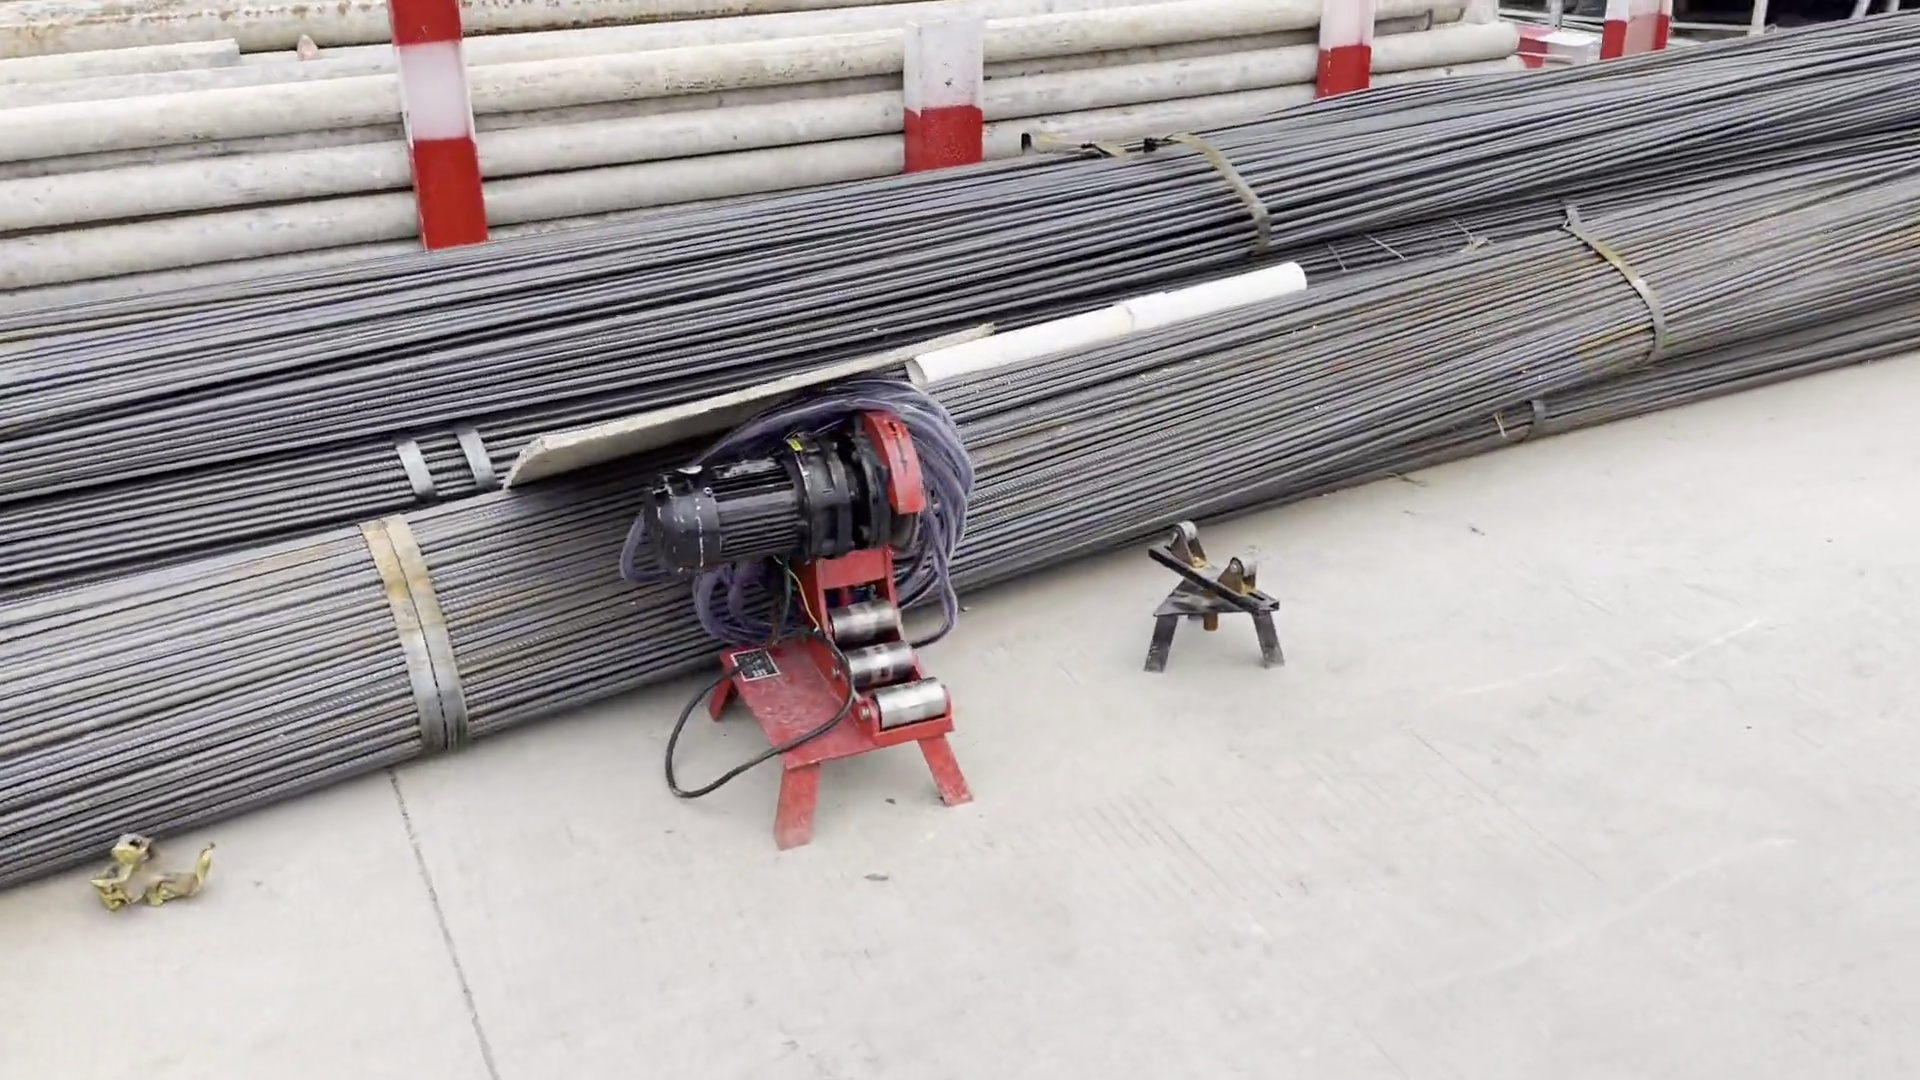rebar: (988, 3, 1920, 589), (1, 255, 633, 895), (553, 152, 1091, 381)
